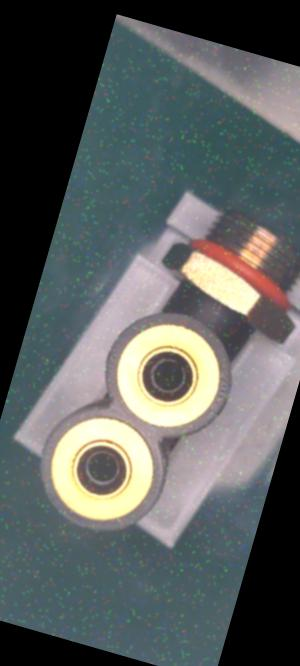white mark: (215, 302, 227, 314)
